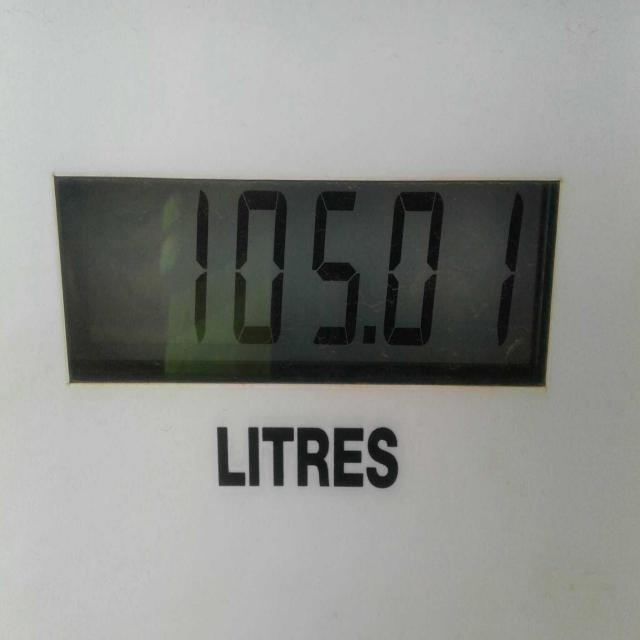.: (360, 323, 384, 352)
0: (383, 192, 448, 356), (229, 189, 291, 349)
1: (492, 189, 529, 351), (189, 188, 218, 352)
5: (312, 192, 364, 356)
screen: (49, 170, 561, 396)
